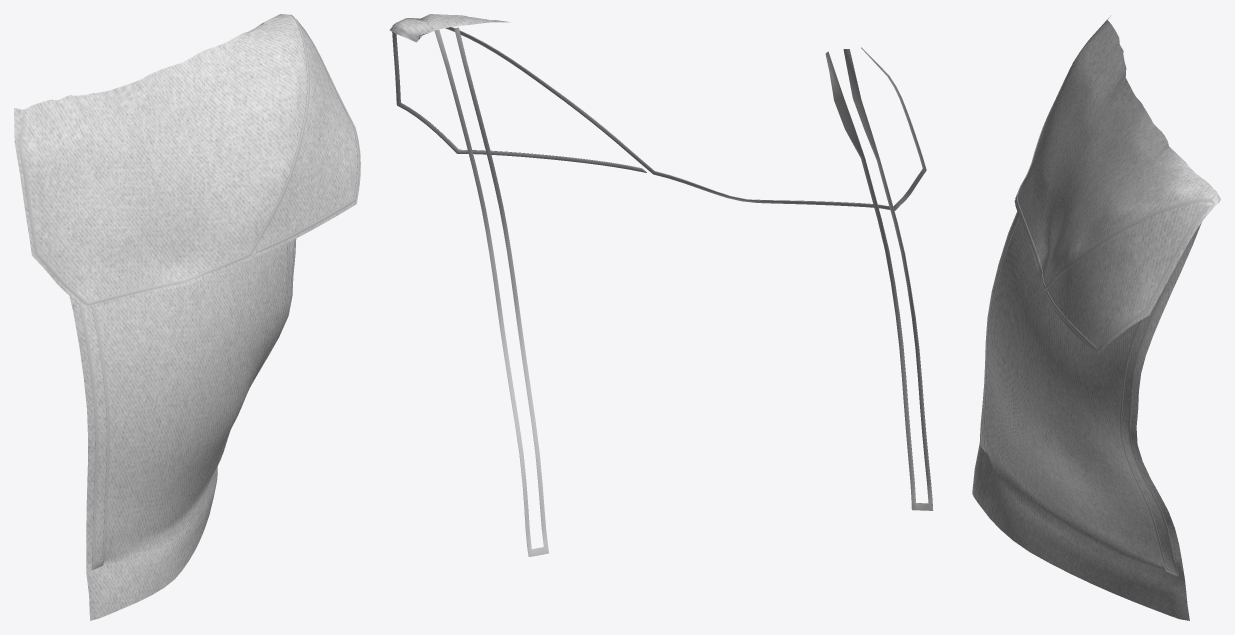
Rendered from Jac_Pocket_RIGHT_V2.glb.
3 renders of one model, left to right at view 1: azimuth 30°, elevation 25°; view 2: azimuth 150°, elevation 25°; view 3: azimuth 270°, elevation 25°, orthographic. The views are drawn at different scales.
Visible parts, largest first — view 1: Jac_Pocket_RIGHT_V21, Rope1; view 2: Rope1, Jac_Pocket_RIGHT_V21; view 3: Jac_Pocket_RIGHT_V21, Rope1.
Part boxes in pixels (x1,y1,x2,y2): Jac_Pocket_RIGHT_V21: (14, 14, 360, 620); Rope1: (18, 14, 359, 569); Rope1: (392, 18, 933, 556); Jac_Pocket_RIGHT_V21: (389, 14, 509, 42); Jac_Pocket_RIGHT_V21: (972, 16, 1220, 620); Rope1: (980, 20, 1213, 576).
Size of the model in its own units: 0.2233 by 0.275 by 0.126.
2 materials, 2 textured.
